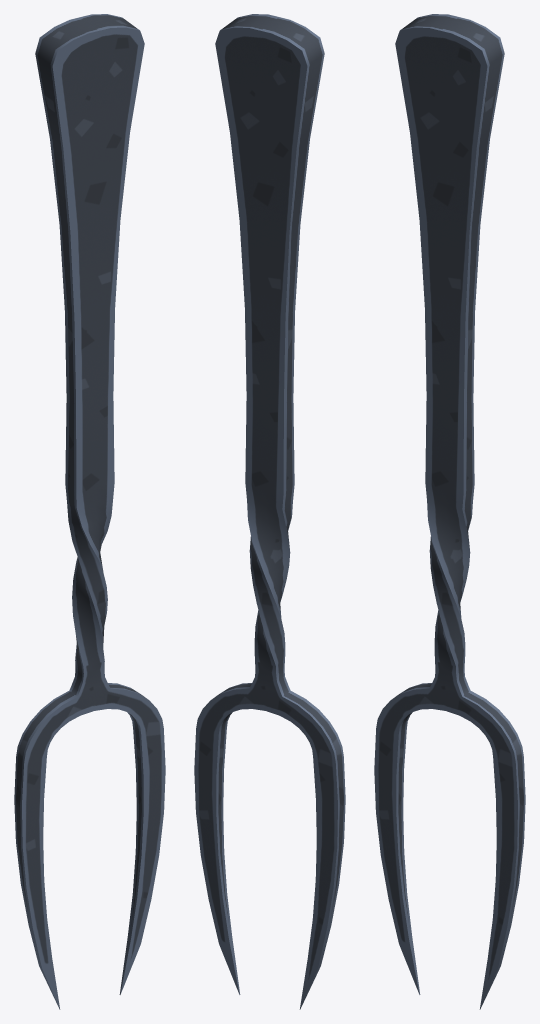
Rendered from LargeFork.FBX.
3 views of the same model, side by side, from view 1: azimuth 30°, elevation 25°; view 2: azimuth 150°, elevation 25°; view 3: azimuth 330°, elevation 25° (orthographic).
Parts seen in each view (by area): view 1: Line002; view 2: Line002; view 3: Line002.
Boxes of the visible parts, x1,y1,x2,y2 form: Line002: [14, 14, 165, 1009]; Line002: [194, 14, 345, 1009]; Line002: [374, 14, 525, 1009].
Bounding box in the file's own units: 118 × 768 × 28.86.
